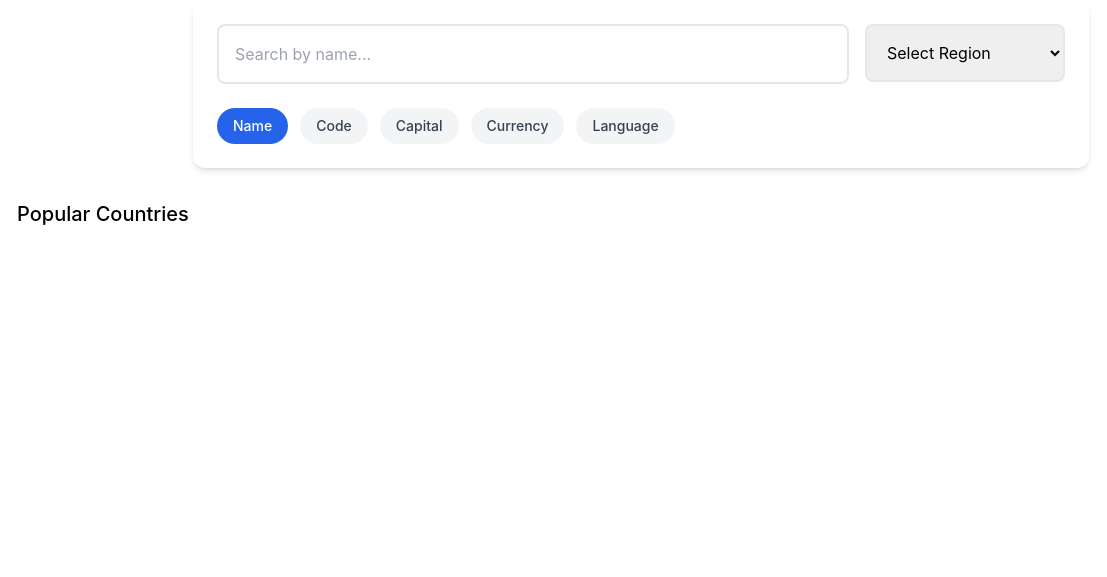
Test: SearchPage › switches filter method when button clicked
// Click filter by "Code"
Click the button "Code" at {"x": 334, "y": 126}, box top-left (300, 108), bottom-right (368, 144)
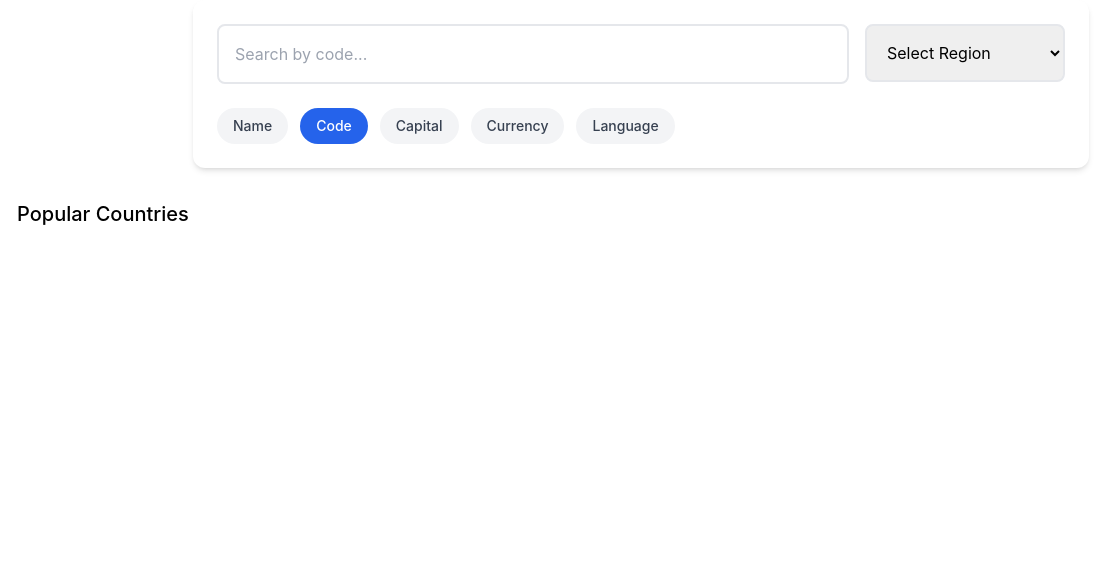
Type "tc" into the field with placeholder "Search by code..." at {"x": 533, "y": 54}, box top-left (217, 24), bottom-right (849, 84)
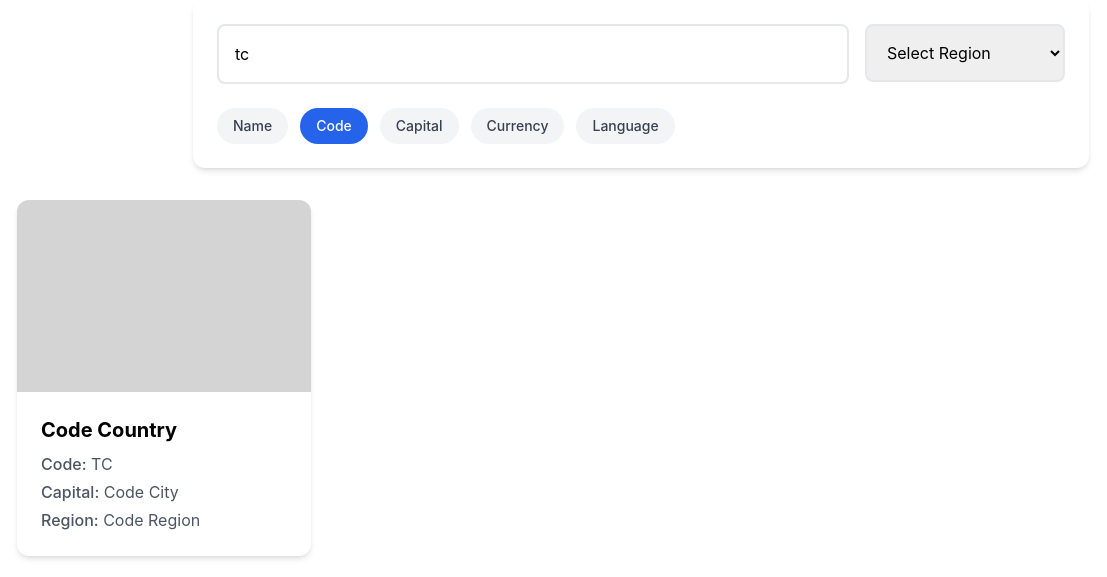
Expected: the heading "Code Country" is shown, top-left (41, 418), bottom-right (177, 442)
